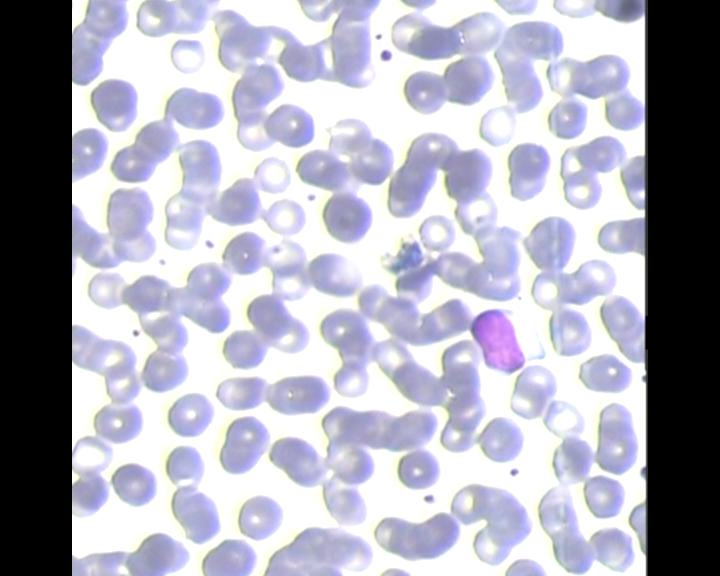lymp: (468, 305, 549, 379)
